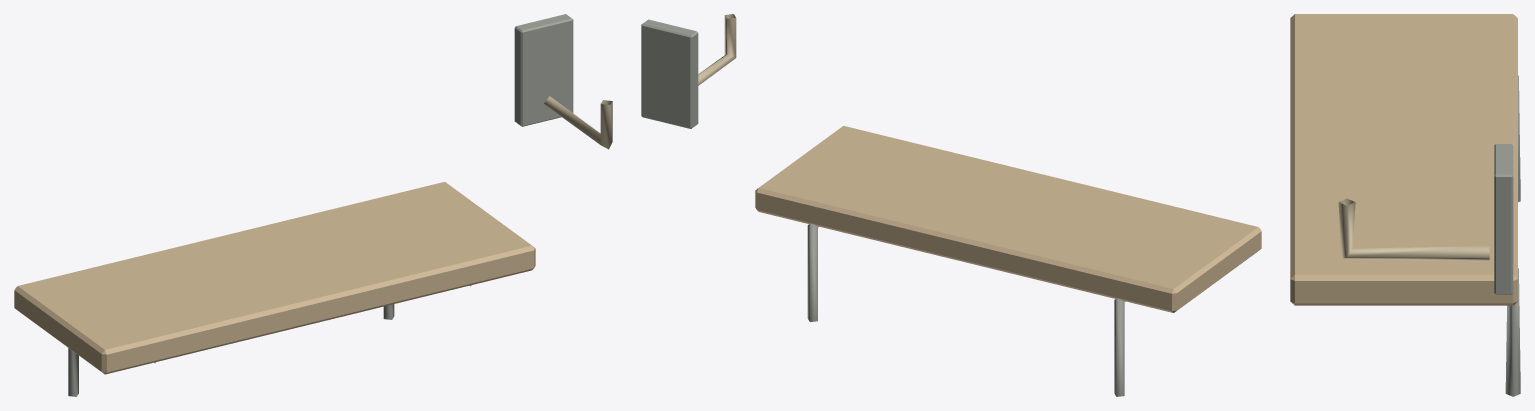
Rendered from resident-tool-rack.glb.
3 renders of one model, left to right at view 1: azimuth 30°, elevation 25°; view 2: azimuth 150°, elevation 25°; view 3: azimuth 270°, elevation 25°, orthographic. The views are drawn at different scales.
Visible parts, largest first — view 1: resident-tool-rack authored mesh; view 2: resident-tool-rack authored mesh; view 3: resident-tool-rack authored mesh.
Boxes of the visible parts, box(x1,y1,x2,y2) form: resident-tool-rack authored mesh: box(14, 14, 612, 396); resident-tool-rack authored mesh: box(641, 14, 1261, 396); resident-tool-rack authored mesh: box(1290, 14, 1520, 396).
Bounding box in the file's own units: 0.84 × 0.38 × 0.243.
